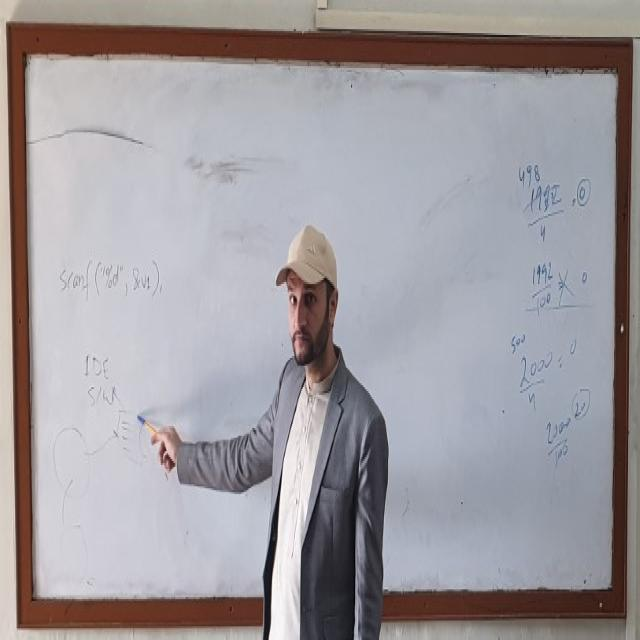Instructor: (245, 190, 389, 640)
White-board: (14, 43, 624, 609)
